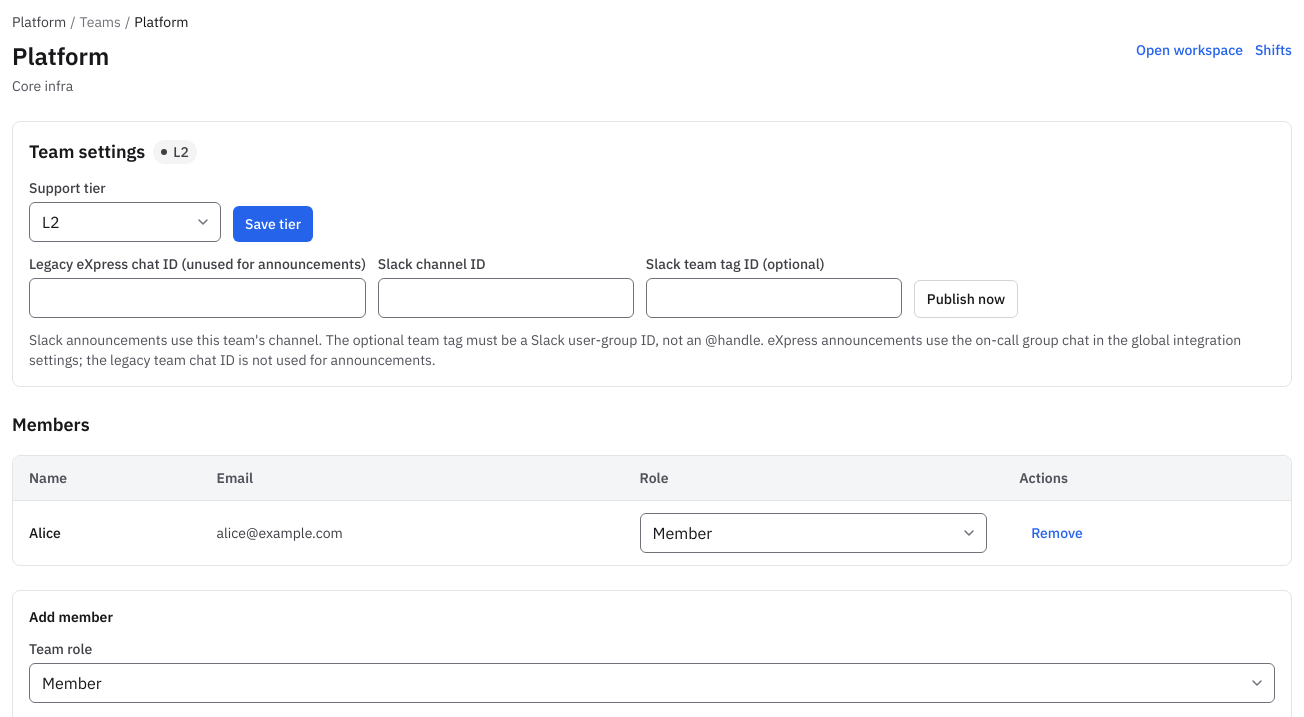
TeamDetailPage › renders members and updates role
Expected: the text "Alice" is shown, [13,500,200,565]
Select "Lead" in the dropdown named "Team role". click: (813, 533)
box: [640,513,987,553]
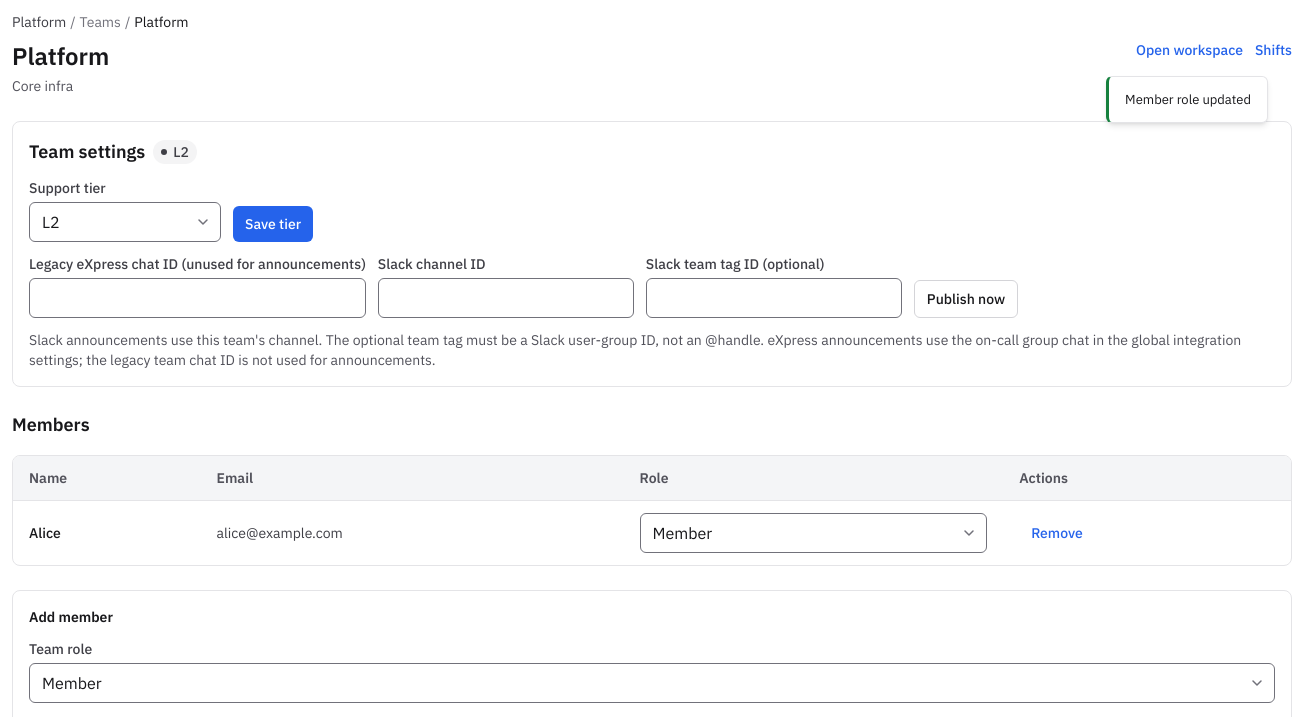
Expected: the text "Member role updated" is shown, [1106,76,1268,123]
